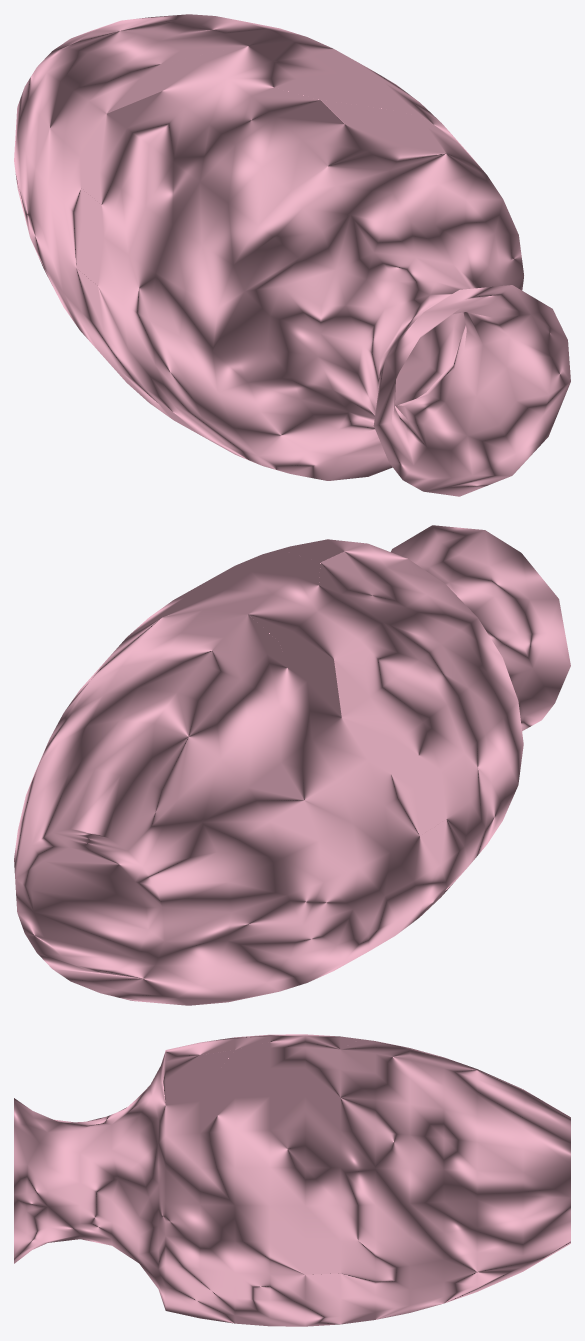
Rendered from model_align.obj.
3 views of the same model, one above another, from view 1: azimuth 30°, elevation 25°; view 2: azimuth 150°, elevation 25°; view 3: azimuth 270°, elevation 25° (orthographic). The views are drawn at different scales.
Bounding box in the file's own units: 0.1214 × 0.1214 × 0.2305.
